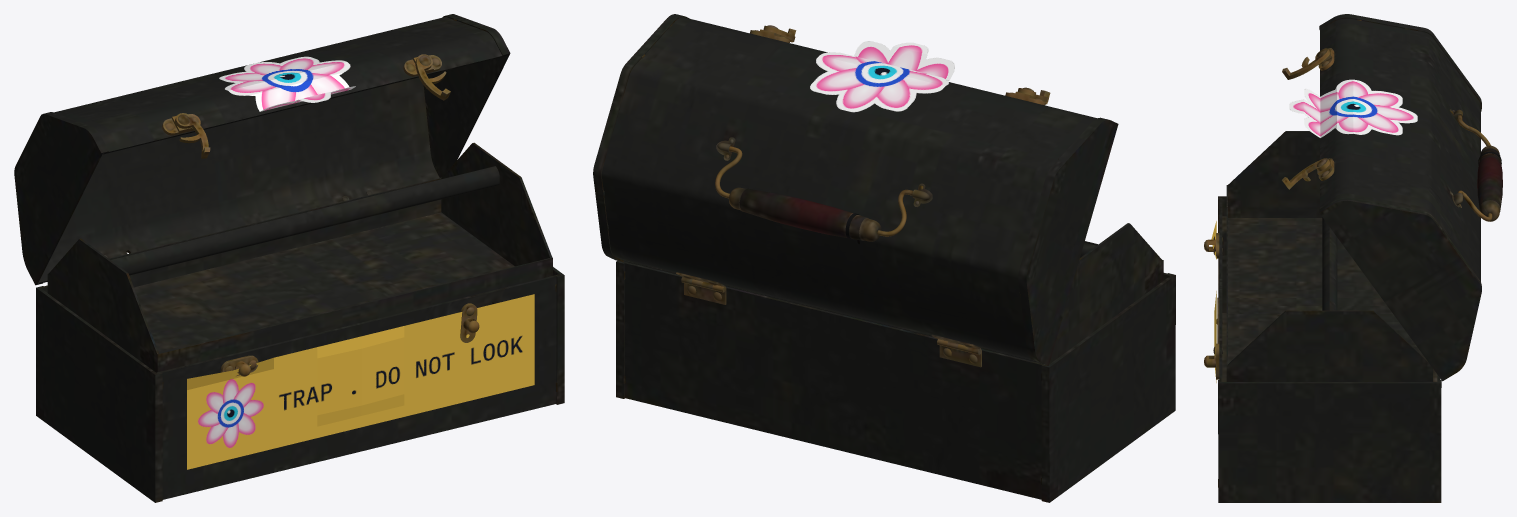
Rendered from nyb_ghost_trap.glb.
The picture shows the model from 3 angles, left to right: view 1: azimuth 30°, elevation 25°; view 2: azimuth 150°, elevation 25°; view 3: azimuth 270°, elevation 25°; orthographic projection. The views are drawn at different scales.
Visible parts, largest first — view 1: metal_toolbox, stk_lbl_3d3eeaa7c2.png, stk_eyeflower_die.png; view 2: metal_toolbox, stk_eyeflower_die.png; view 3: metal_toolbox, stk_eyeflower_die.png.
Boxes of the visible parts, x1,y1,x2,y2 form: metal_toolbox: [14, 14, 564, 502]; stk_lbl_3d3eeaa7c2.png: [187, 294, 534, 469]; stk_eyeflower_die.png: [219, 56, 355, 111]; metal_toolbox: [593, 14, 1175, 502]; stk_eyeflower_die.png: [810, 41, 954, 112]; metal_toolbox: [1204, 14, 1502, 502]; stk_eyeflower_die.png: [1289, 79, 1417, 137].
Bounding box in the file's own units: 0.4 × 0.3047 × 0.2705.
3 materials, 3 textured.
